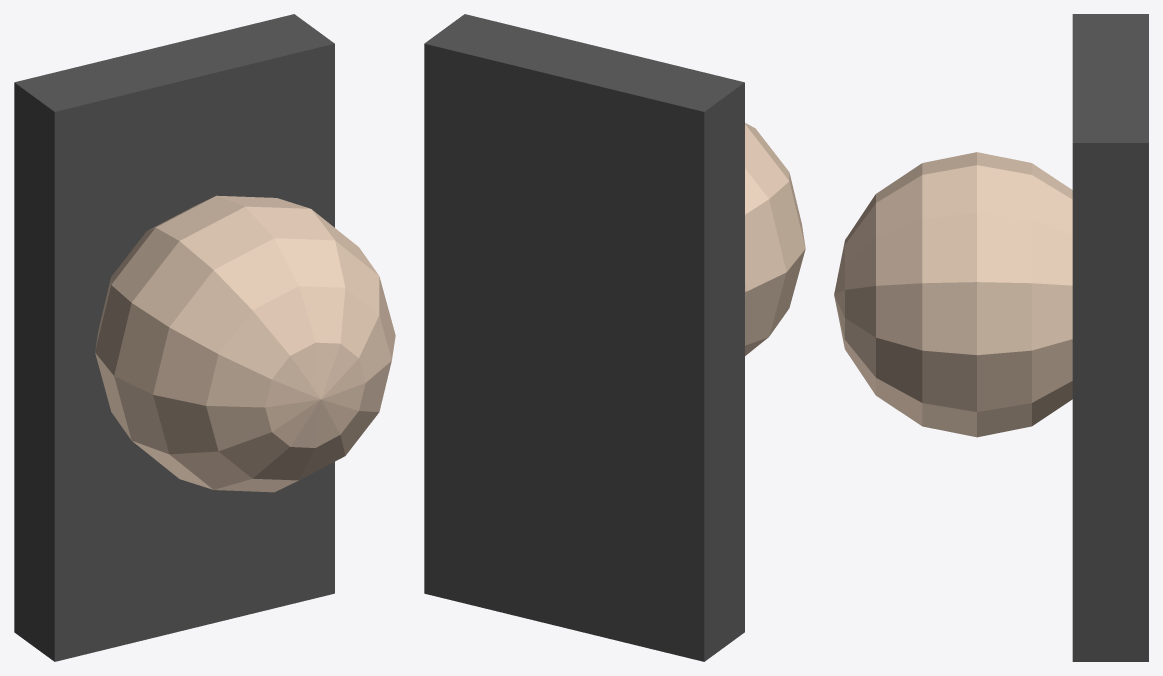
The model's file is hair_long.glb.
3 renders of one model, left to right at view 1: azimuth 30°, elevation 25°; view 2: azimuth 150°, elevation 25°; view 3: azimuth 270°, elevation 25°, orthographic. The views are drawn at different scales.
Visible parts, largest first — view 1: hair, head; view 2: hair, head; view 3: head, hair.
Boxes of the visible parts, <box> form: hair: <box>14,14,334,661</box>; head: <box>95,195,395,492</box>; hair: <box>424,14,744,661</box>; head: <box>745,123,805,355</box>; head: <box>834,152,1072,437</box>; hair: <box>1072,14,1148,661</box>.
Bounding box in the file's own units: 0.3198 × 0.6001 × 0.3299.
